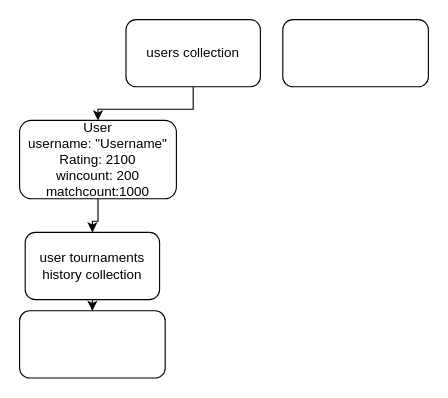
This 448x398 diagram has some shape labels left out. The shapes that lost their labels are listed below. From the top down, each one's centre as x and y in pixels, then its label:
(x=355, y=52): Tournament Collection
(x=91, y=344): tournament tournamentId: "idstring"
